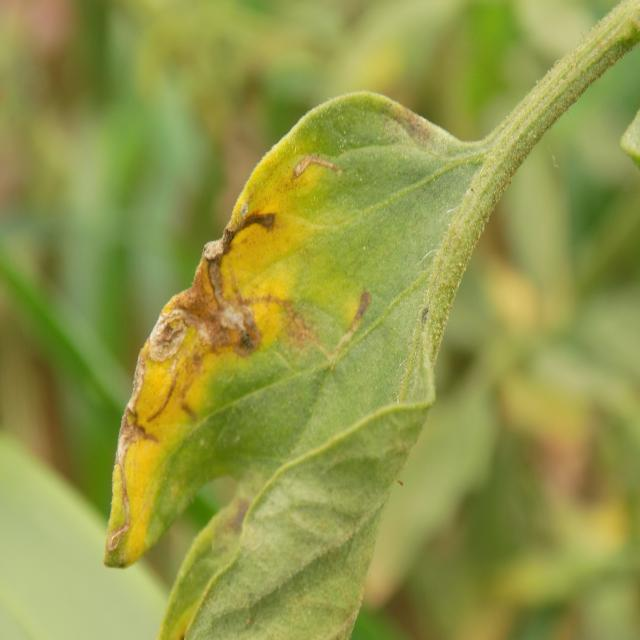tomato_early blight: (103, 80, 482, 640)
